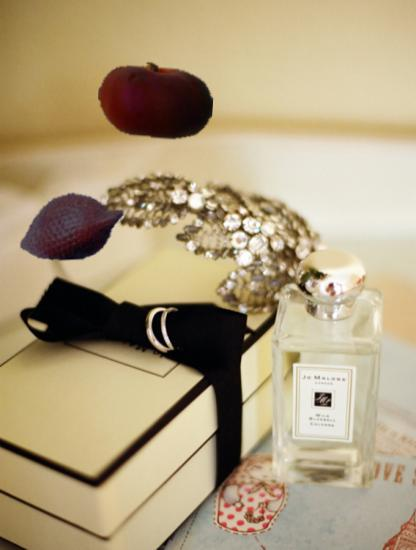Nectarine: (98, 43, 213, 158)
Salak: (18, 173, 126, 281)
